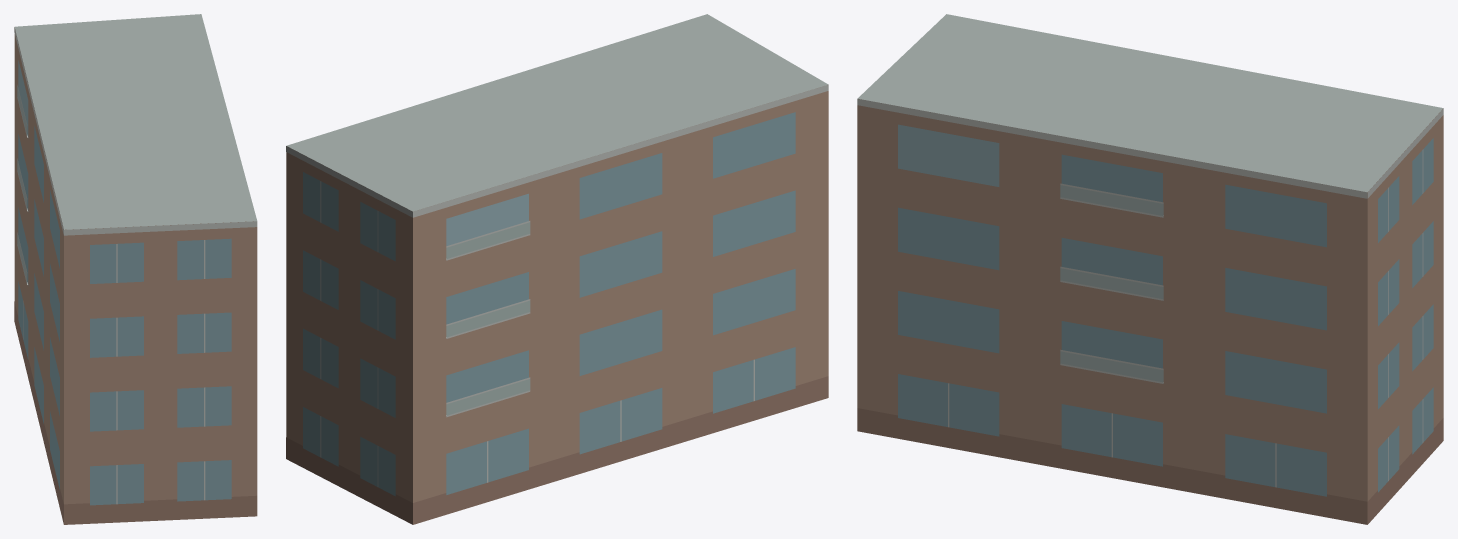
The model's file is survey-upis-32768366.glb.
3 renders of one model, left to right at view 1: azimuth 30°, elevation 25°; view 2: azimuth 150°, elevation 25°; view 3: azimuth 270°, elevation 25°, orthographic. The views are drawn at different scales.
Visible parts, largest first — view 1: survey-upis-32768366.tmp; view 2: survey-upis-32768366.tmp; view 3: survey-upis-32768366.tmp.
Boxes of the visible parts, box(x1,y1,x2,y2) form: survey-upis-32768366.tmp: box(14, 14, 257, 524); survey-upis-32768366.tmp: box(286, 14, 828, 524); survey-upis-32768366.tmp: box(857, 14, 1443, 524).
Size of the model in its own units: 14.27 by 12.4 by 19.82.
